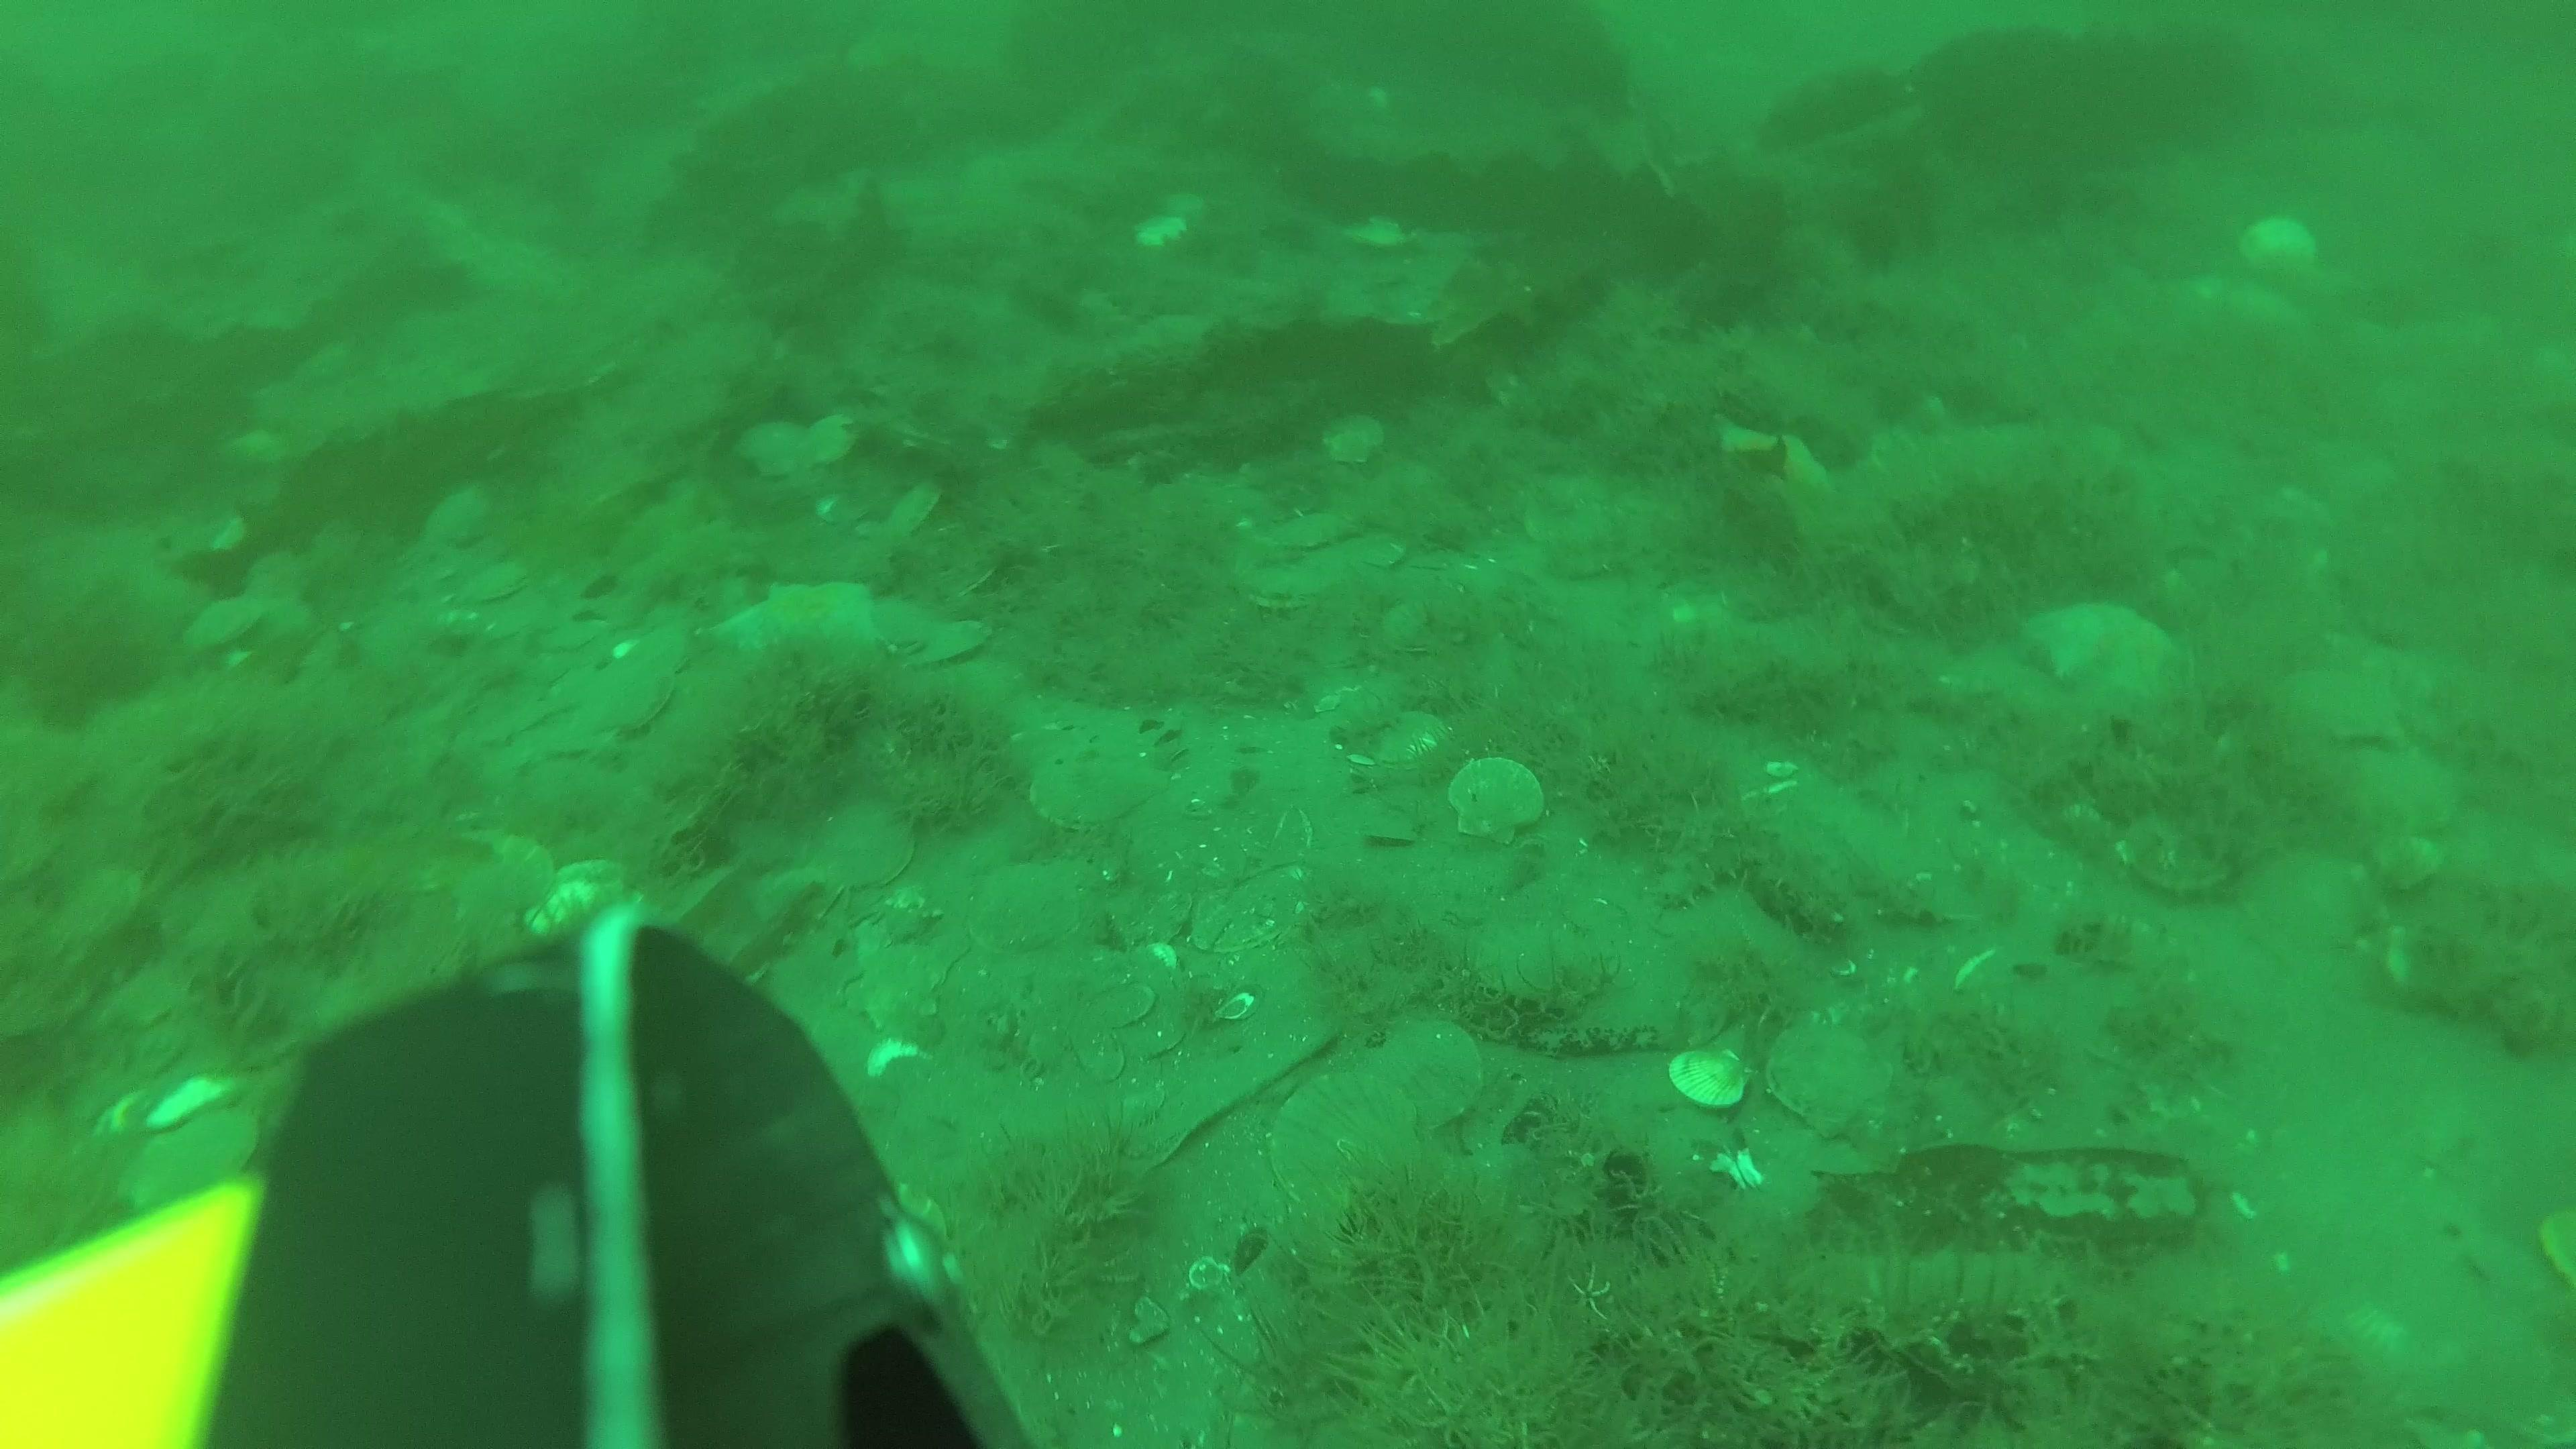holothurian: (1651, 828, 1764, 906)
scallop: (1267, 1065, 1424, 1212), (2240, 835, 2387, 961), (1766, 1014, 1897, 1143), (117, 1100, 258, 1219), (971, 858, 1097, 966), (1373, 1019, 1491, 1131), (2120, 798, 2238, 906), (2279, 655, 2406, 750), (444, 816, 561, 918), (1023, 748, 1166, 830), (810, 798, 920, 901), (1191, 869, 1309, 961), (522, 858, 640, 950), (853, 936, 950, 1035), (1447, 755, 1550, 847), (566, 658, 676, 741), (1238, 556, 1343, 617), (1352, 706, 1453, 770), (732, 416, 817, 488), (2233, 211, 2327, 276), (1672, 1042, 1752, 1113), (906, 614, 994, 676), (616, 619, 699, 683), (177, 594, 267, 653), (1382, 598, 1461, 663), (879, 474, 948, 543), (458, 557, 545, 610), (1320, 409, 1385, 474), (1281, 506, 1357, 554), (801, 410, 858, 469)
starfish: (708, 570, 893, 674), (2029, 586, 2185, 702)
